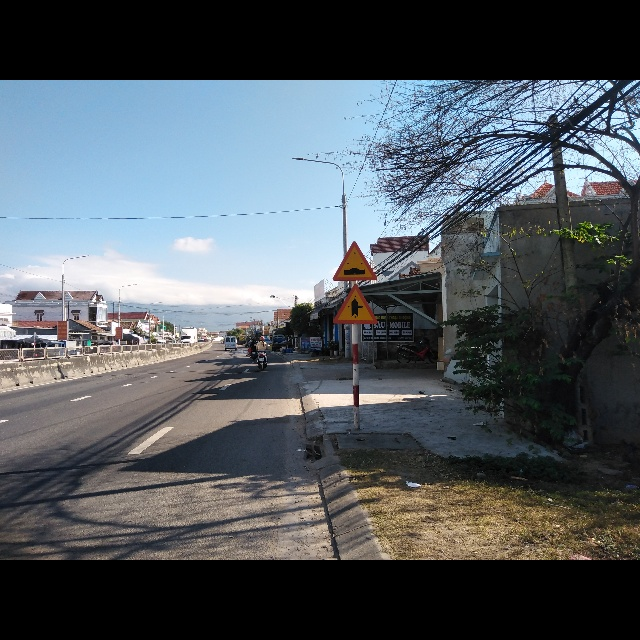Giao nhau với đường không ưu tiên: (333, 287, 379, 327)
Đường không bằng phẳng: (330, 239, 379, 282)
